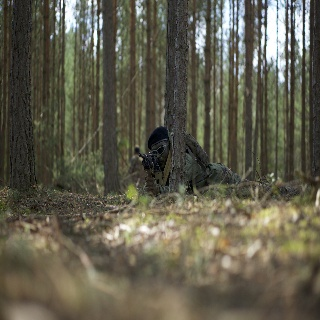rifle: (133, 144, 162, 180)
